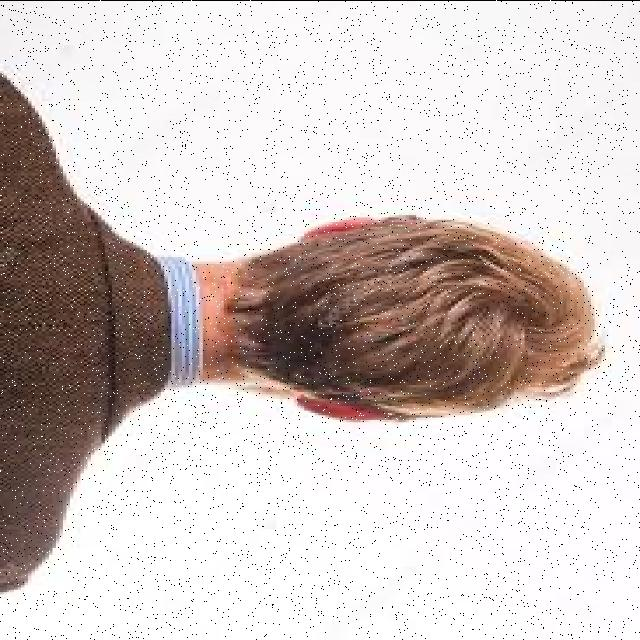Non_Helmet: (228, 192, 614, 456)
